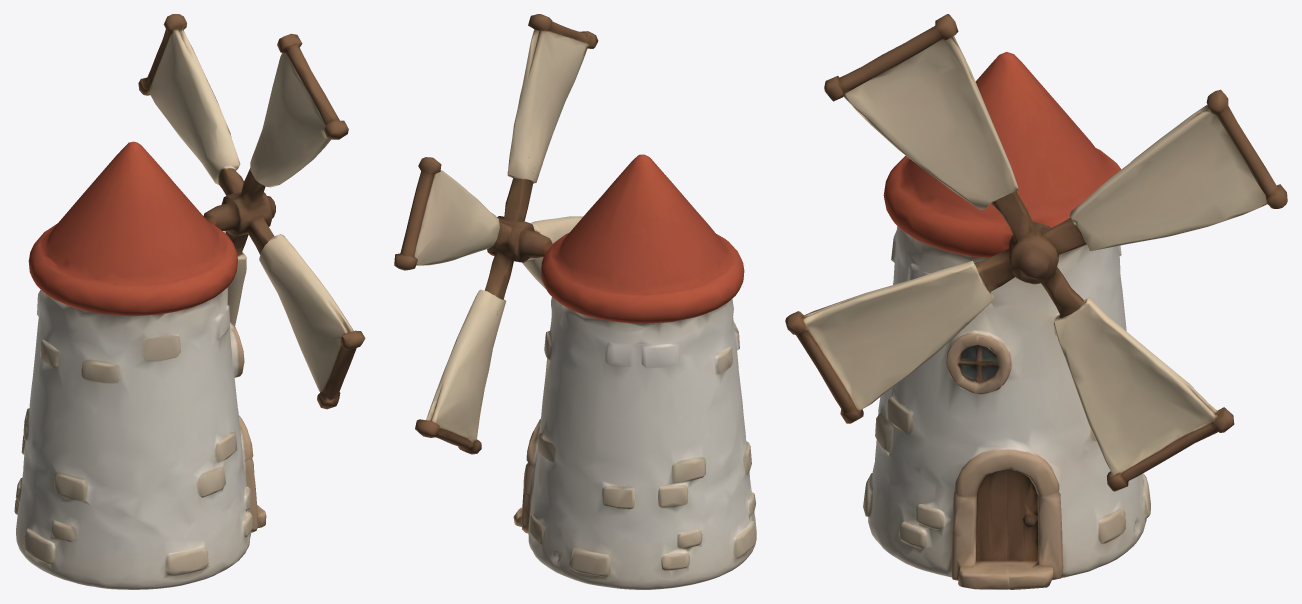
File: windmill.glb
The picture shows the model from 3 angles, left to right: view 1: azimuth 30°, elevation 25°; view 2: azimuth 150°, elevation 25°; view 3: azimuth 270°, elevation 25°; orthographic projection. The views are drawn at different scales.
Parts seen in each view (by area): view 1: tripo_node_4352792c-2f7b-4b70-af4b-48120763931f; view 2: tripo_node_4352792c-2f7b-4b70-af4b-48120763931f; view 3: tripo_node_4352792c-2f7b-4b70-af4b-48120763931f.
Boxes of the visible parts, box(x1,y1,x2,y2) form: tripo_node_4352792c-2f7b-4b70-af4b-48120763931f: box(14, 14, 365, 589); tripo_node_4352792c-2f7b-4b70-af4b-48120763931f: box(394, 14, 756, 589); tripo_node_4352792c-2f7b-4b70-af4b-48120763931f: box(785, 14, 1287, 589).
Bounding box in the file's own units: 0.5441 × 1 × 0.7772.
1 material, 1 textured.
